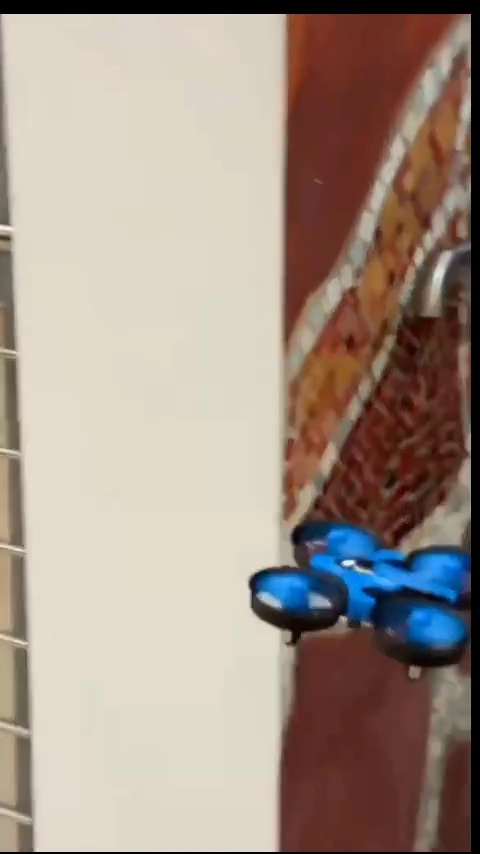drone: (254, 519, 474, 684)
